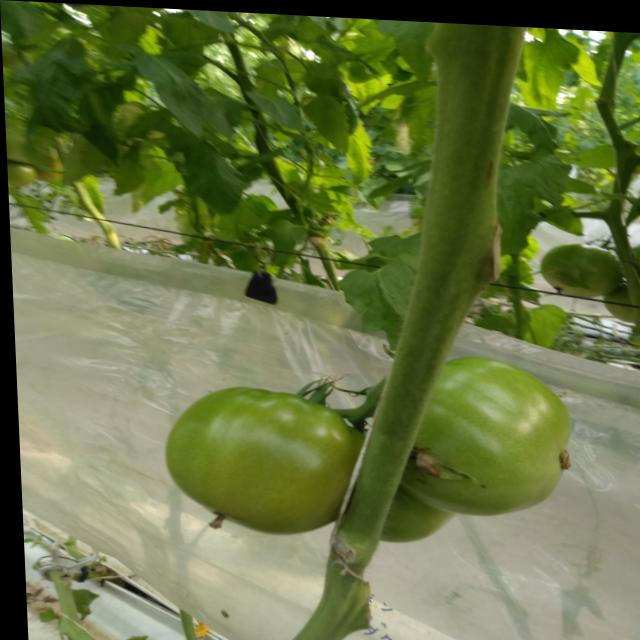yesil: (118, 255, 575, 569)
